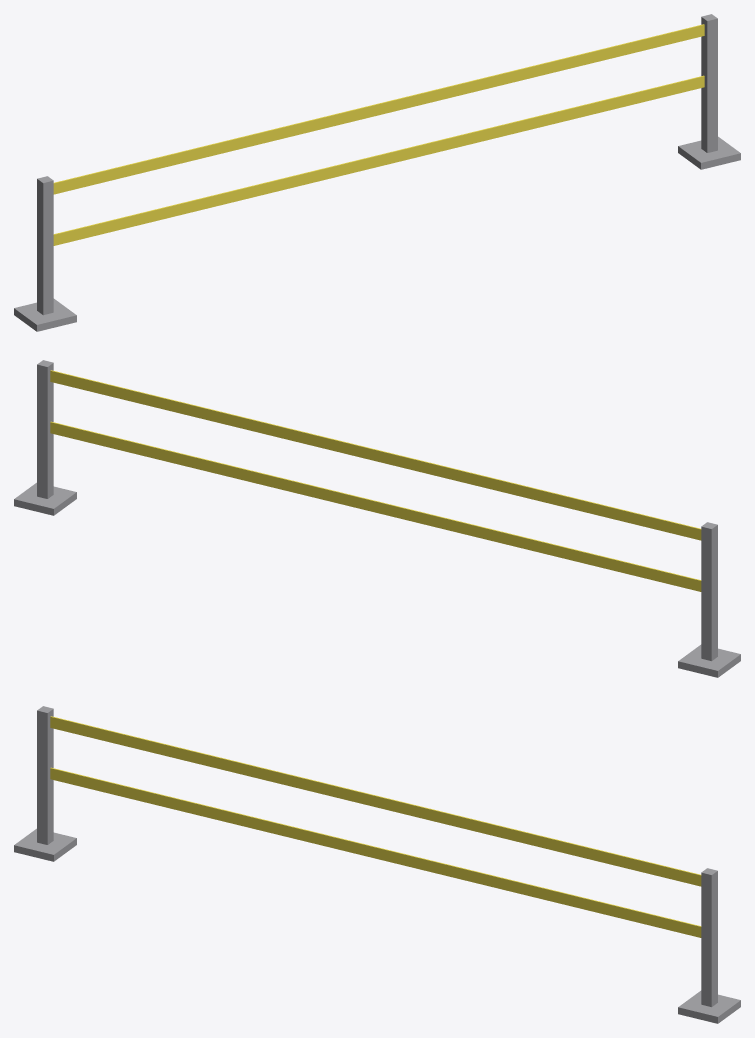
The model's file is SM_Cinta_Precaucion.fbx.
3 renders of one model, top to bottom at view 1: azimuth 30°, elevation 25°; view 2: azimuth 150°, elevation 25°; view 3: azimuth 330°, elevation 25°, orthographic.
Visible parts, largest first — view 1: SM_Cinta_Precaucion; view 2: SM_Cinta_Precaucion; view 3: SM_Cinta_Precaucion.
Boxes of the visible parts, bbox=[...] form: SM_Cinta_Precaucion: bbox=[14, 14, 740, 331]; SM_Cinta_Precaucion: bbox=[14, 360, 740, 677]; SM_Cinta_Precaucion: bbox=[14, 706, 740, 1023].
Size of the model in its own units: 5.3 by 1 by 0.3.
